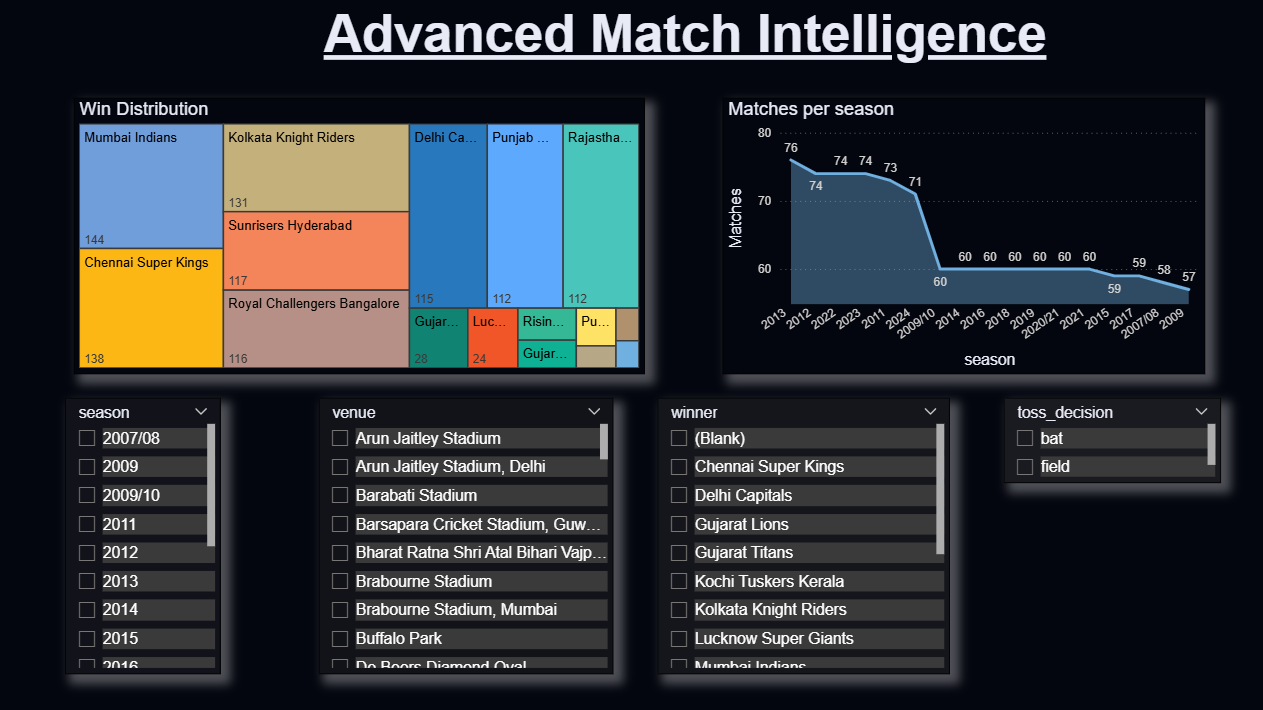

What the dashboard file says about the page in this screenshot:
{"tool":"powerbi","page":{"name":"Page 5","canvas":[1280,720],"ordinal":4},"visuals":[{"type":"treemap","title":"Win Distribution","fields":{"Group":["powerbi_matches.winner"],"Values":["Count(powerbi_matches.id)"]},"box":[75,100,578.8,280],"z":0},{"type":"lineChart","title":"Matches per season","fields":{"Category":["powerbi_seasons.season"],"Y":["Count(powerbi_matches.id)"]},"box":[731.2,100,488.8,280],"z":1000},{"type":"slicer","fields":{"Values":["powerbi_matches.season"]},"box":[66.2,403.8,157.5,280],"z":2000},{"type":"slicer","fields":{"Values":["powerbi_matches.winner"]},"box":[666.2,403.8,296.2,280],"z":3000},{"type":"slicer","fields":{"Values":["powerbi_matches.venue"]},"box":[322.5,403.8,298.8,280],"z":4000},{"type":"slicer","fields":{"Values":["powerbi_matches.toss_decision"]},"box":[1016.2,403.8,220,86.2],"z":5000},{"type":"textbox","box":[297.5,0,792.5,86.2],"z":6000}]}

Visuals, with their boxes in screenshot pixels (x1, y1, x2, y2), scaled from the page's 1280x720 canvas onto the 1263x710 screenshot:
"Win Distribution" treemap: rect(74, 99, 645, 375)
"Matches per season" lineChart: rect(721, 99, 1204, 375)
slicer - powerbi_matches.season: rect(65, 398, 221, 674)
slicer - powerbi_matches.winner: rect(657, 398, 950, 674)
slicer - powerbi_matches.venue: rect(318, 398, 613, 674)
slicer - powerbi_matches.toss_decision: rect(1003, 398, 1220, 483)
textbox: rect(294, 0, 1076, 85)
